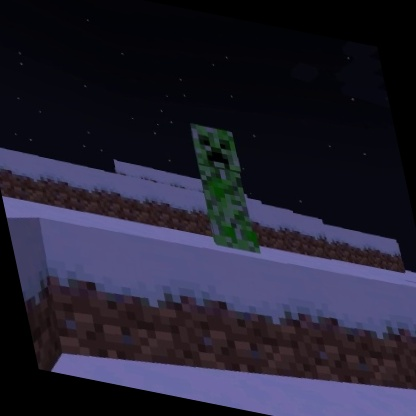creeper: (184, 118, 265, 258)
